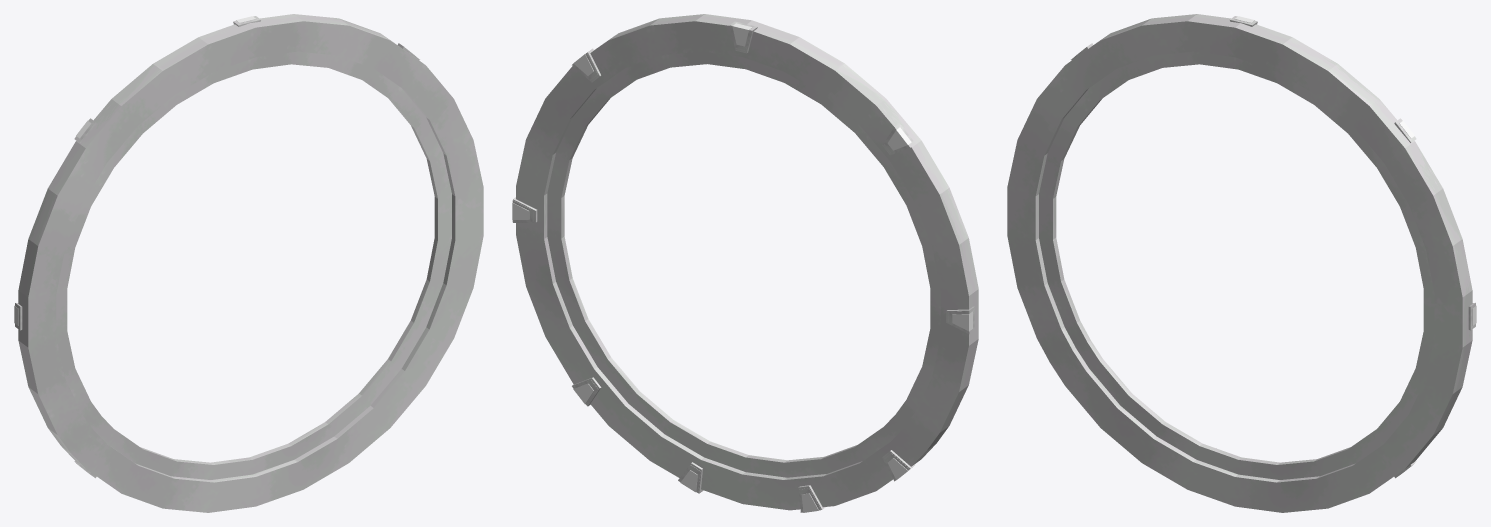
The model's file is Milky-way Type.fbx.
The picture shows the model from 3 angles, left to right: view 1: azimuth 30°, elevation 25°; view 2: azimuth 150°, elevation 25°; view 3: azimuth 330°, elevation 25°; orthographic projection.
Parts seen in each view (by area): view 1: node_id53, node_id50; view 2: node_id53, node_id50; view 3: node_id53, node_id50.
Part boxes in pixels (x1,y1,x2,y2): node_id53: [18, 14, 483, 512]; node_id50: [56, 51, 451, 479]; node_id53: [516, 14, 978, 510]; node_id50: [547, 51, 940, 477]; node_id53: [1007, 14, 1472, 512]; node_id50: [1039, 51, 1434, 479].
Bounding box in the file's own units: 0.3638 × 0.3632 × 0.0162.
39 materials, 38 textured.
